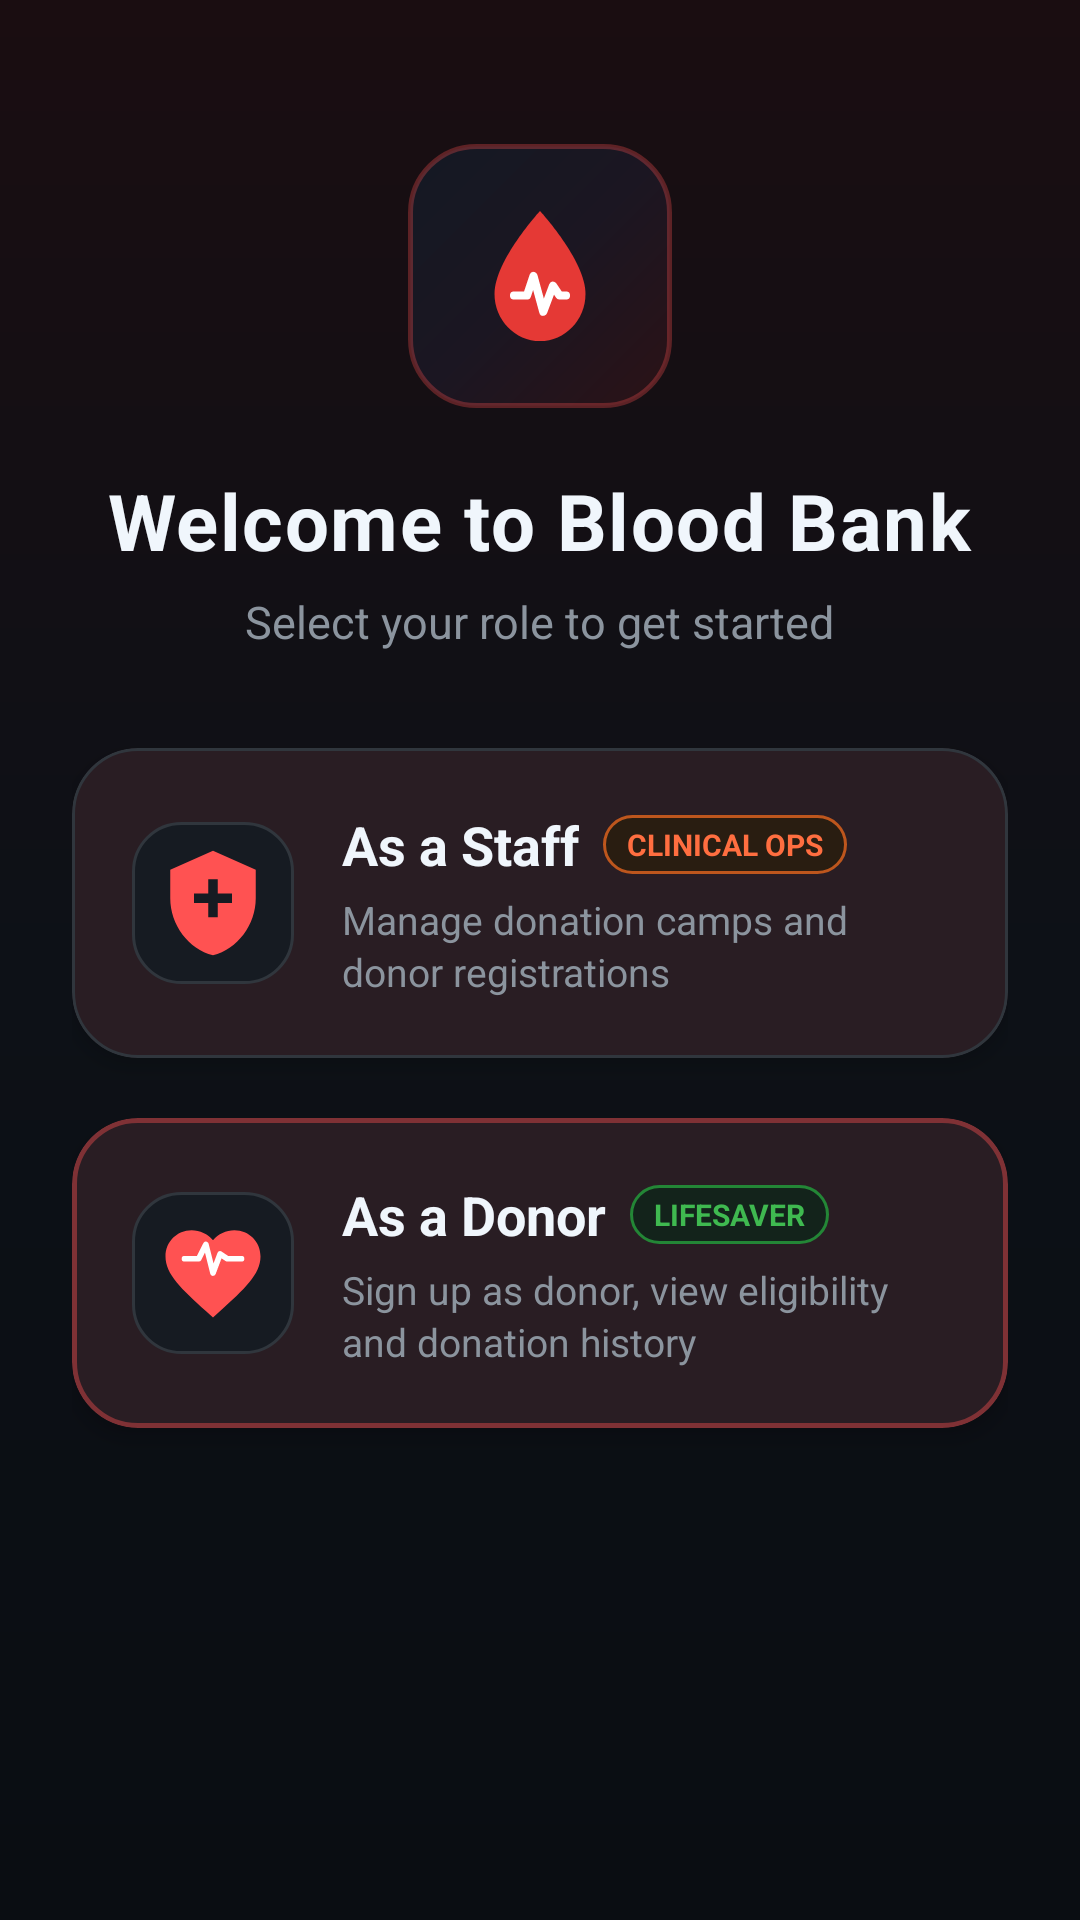

Icon bounding boxes for this 1080*1920 phone screenshot, format (x1, y1, x2, y2):
blood drop pulse: (494, 211, 586, 341)
